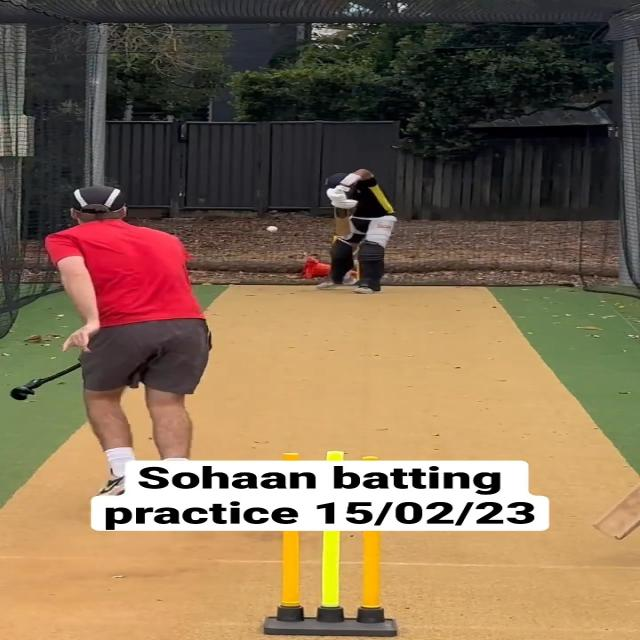ball: (266, 225, 279, 233)
stump: (266, 530, 395, 638)
